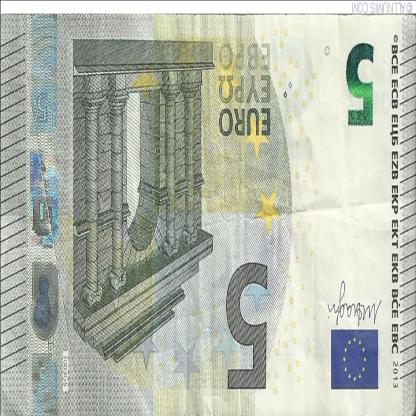euro_banknote: (1, 14, 415, 416)
